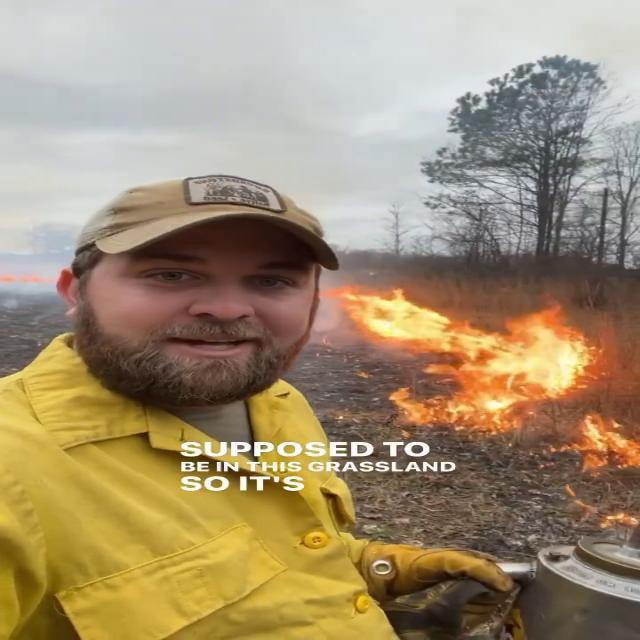Fire: (325, 280, 627, 430)
